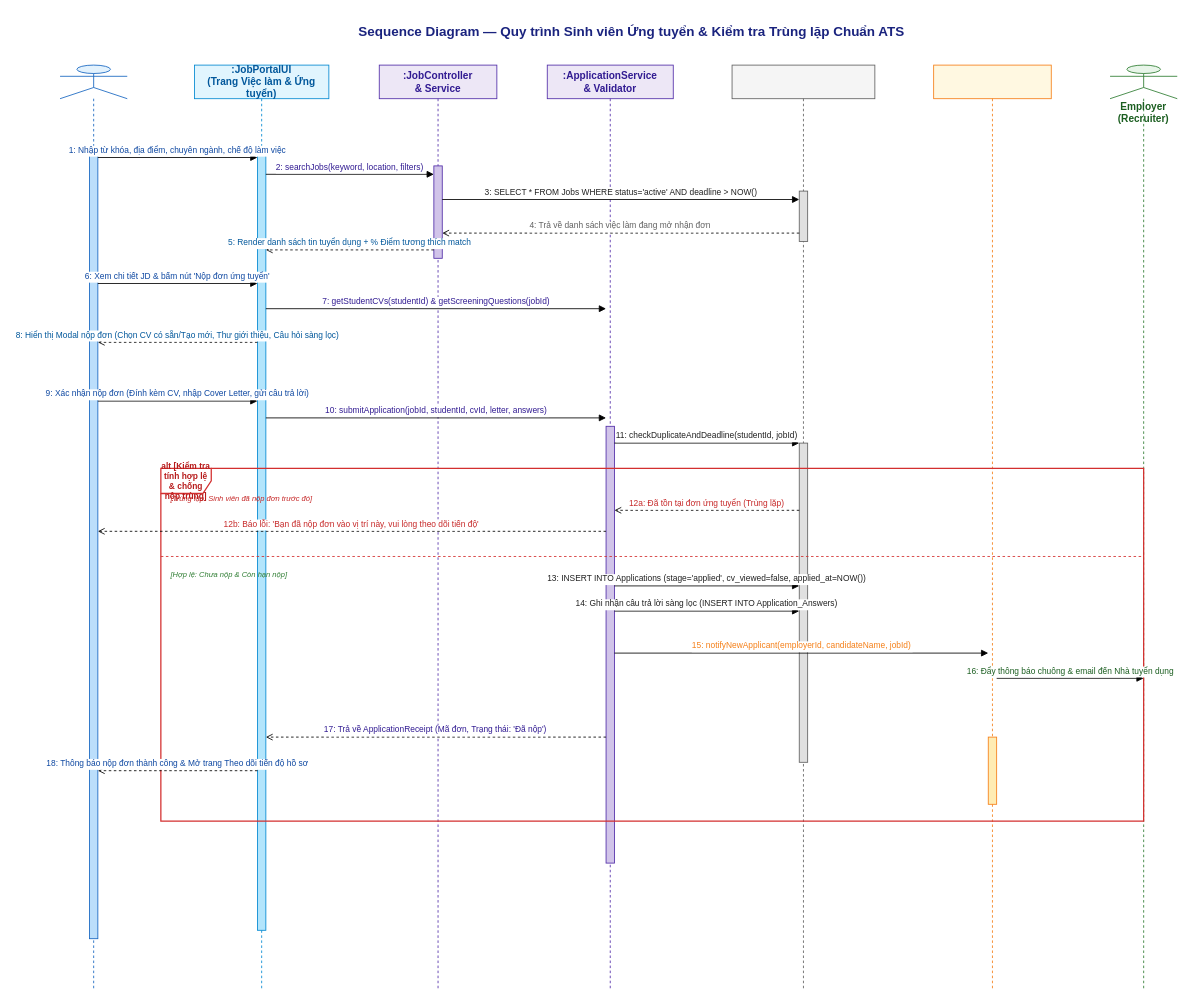
Image size: 1192x1004. Some labels were removed from this diagram. The box of each missing label's shape, as (x1, y1, x2, y2) in pixels:
:Database (D2_Jobs, D3_Apps, D4_CVs): (731, 64, 875, 989)
:NotificationService: (933, 64, 1051, 989)
Candidate (Sinh viên): (59, 64, 127, 989)
